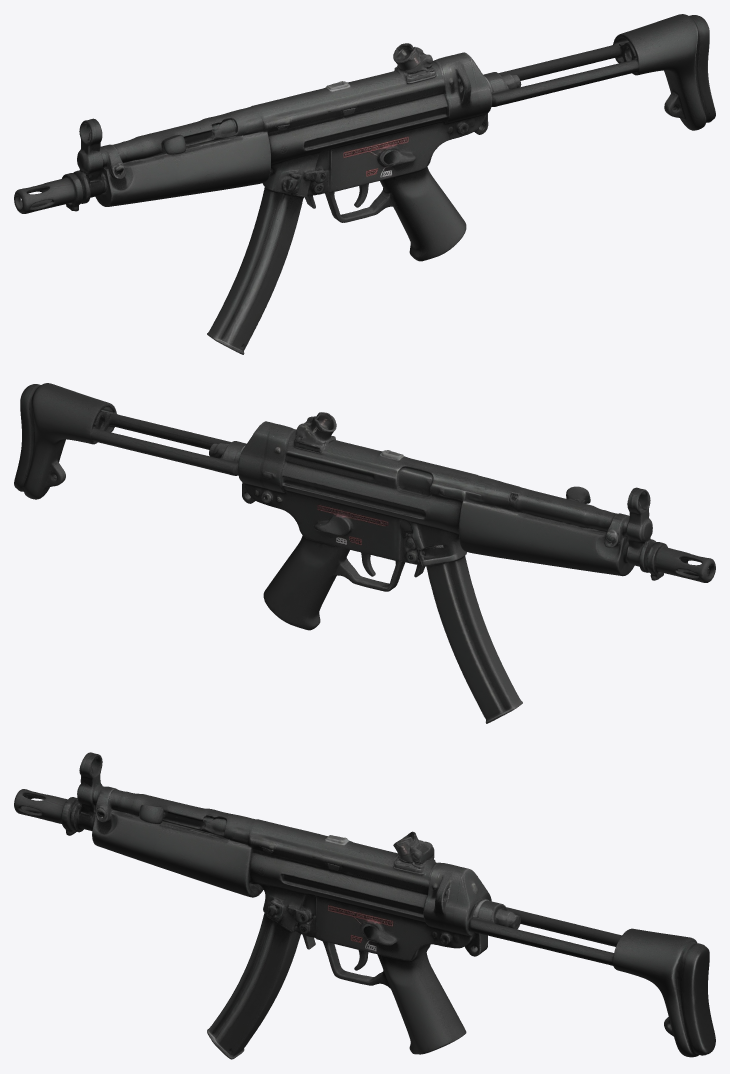
The picture shows the model from 3 angles, top to bottom: view 1: azimuth 30°, elevation 25°; view 2: azimuth 150°, elevation 25°; view 3: azimuth 330°, elevation 25°; orthographic projection.
Size of the model in its own units: 1.9 by 0.6969 by 0.1496.
1 material, 1 textured.
